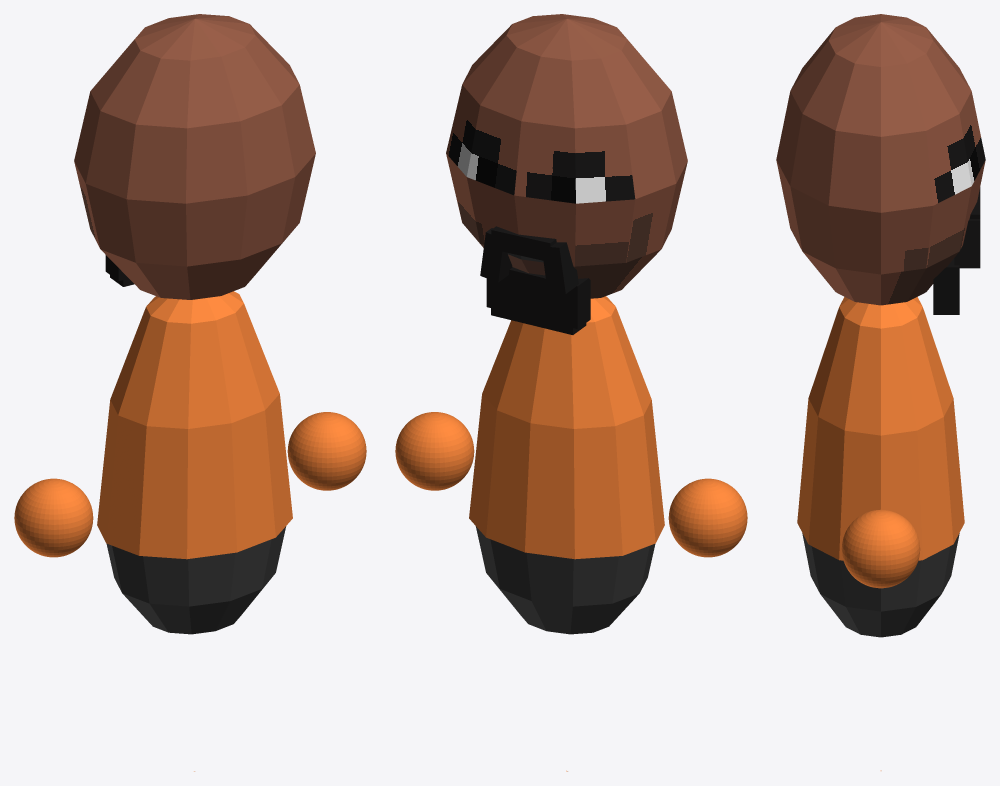
File: matt.gltf
3 renders of one model, left to right at view 1: azimuth 30°, elevation 25°; view 2: azimuth 150°, elevation 25°; view 3: azimuth 270°, elevation 25°, orthographic.
Parts seen in each view (by area): view 1: sphere (×5); view 2: sphere (×5), cube (×5); view 3: sphere (×4), cube (×2).
Boxes of the visible parts, <box> form: sphere (×5): <box>14,14,366,771</box>; sphere (×5): <box>395,14,747,771</box>; cube (×5): <box>480,226,590,334</box>; sphere (×4): <box>776,14,985,770</box>; cube (×2): <box>933,219,980,310</box>.
Size of the model in its own units: 0.9375 by 1.97 by 0.5.
Materials: 4 (4 with a texture image).
